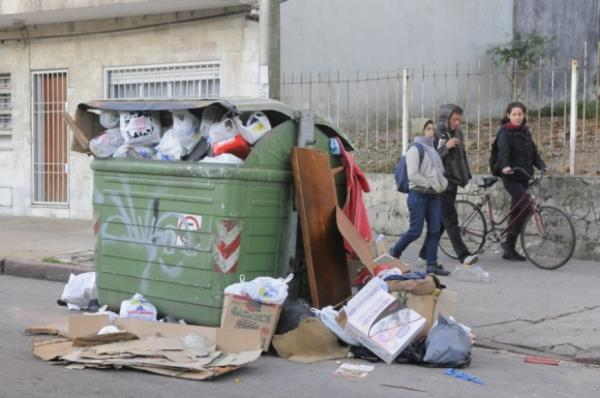Dechets: (324, 233, 478, 374), (26, 313, 262, 379), (90, 103, 258, 160), (292, 147, 350, 307), (221, 274, 292, 351), (272, 317, 350, 363), (59, 272, 98, 310)
Trash: (73, 91, 358, 326)
